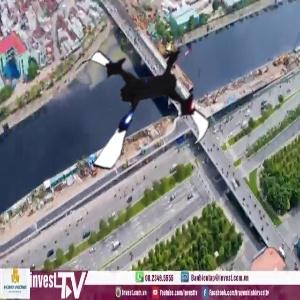drone: (65, 31, 218, 184)
